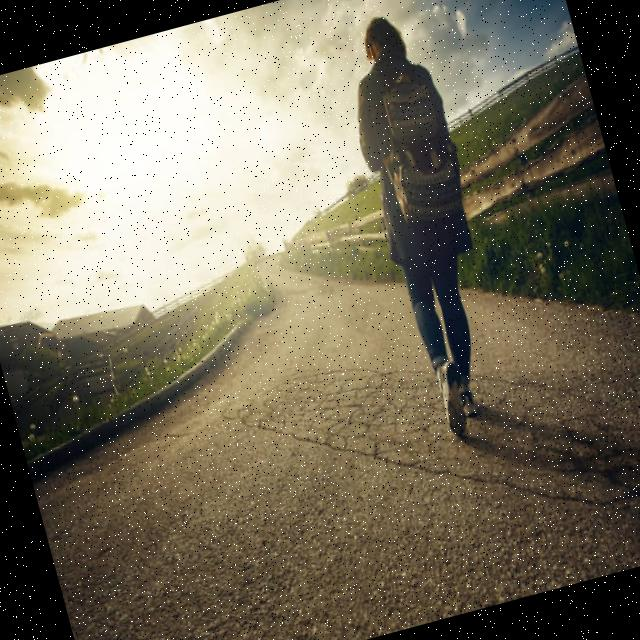Person: (328, 6, 526, 442)
